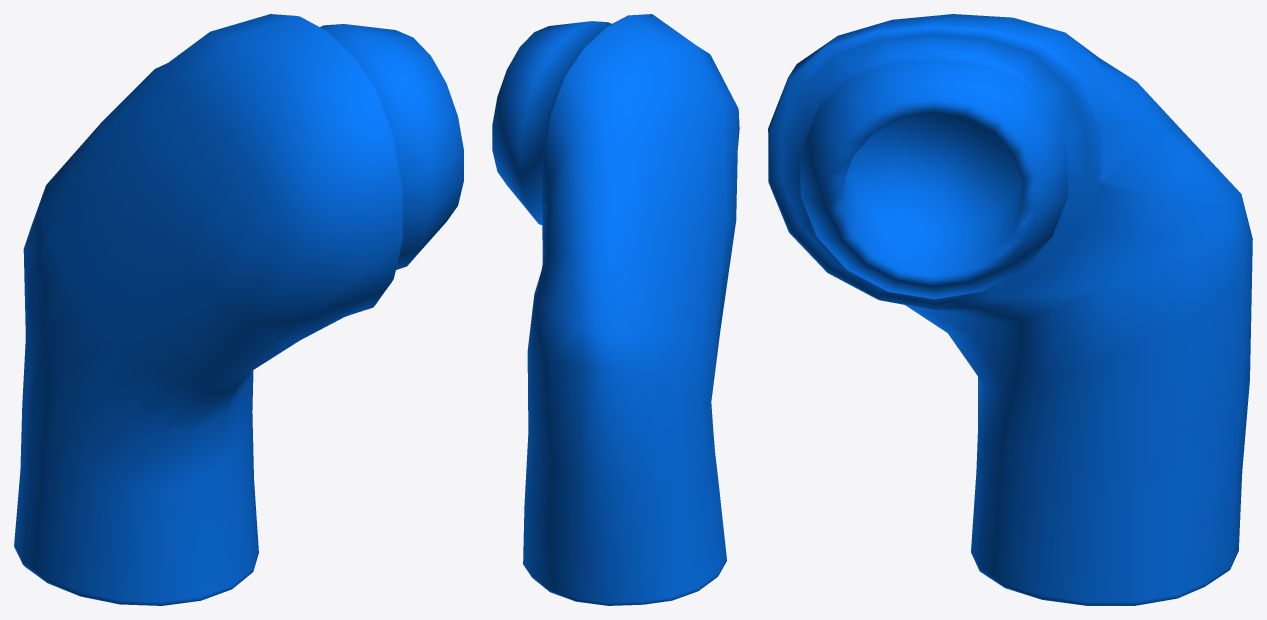
File: bras-d.obj
3 views of the same model, side by side, from view 1: azimuth 30°, elevation 25°; view 2: azimuth 150°, elevation 25°; view 3: azimuth 270°, elevation 25° (orthographic). The views are drawn at different scales.
Parts seen in each view (by area): view 1: bras-D_Object001_b;ue_0.001; view 2: bras-D_Object001_b;ue_0.001; view 3: bras-D_Object001_b;ue_0.001.
Part boxes in pixels (left/top/right/bottom): bras-D_Object001_b;ue_0.001: left=14, top=14, right=463, bottom=605; bras-D_Object001_b;ue_0.001: left=492, top=14, right=739, bottom=605; bras-D_Object001_b;ue_0.001: left=768, top=14, right=1252, bottom=605.
Bounding box in the file's own units: 0.4482 × 0.8033 × 0.604.
Materials: 1 (1 with a texture image).
